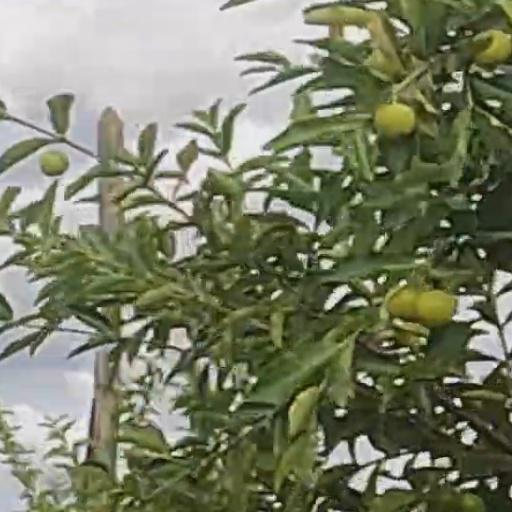acerola: (476, 31, 508, 65), (376, 104, 411, 133), (421, 292, 453, 322), (391, 290, 418, 317), (39, 152, 68, 173)
